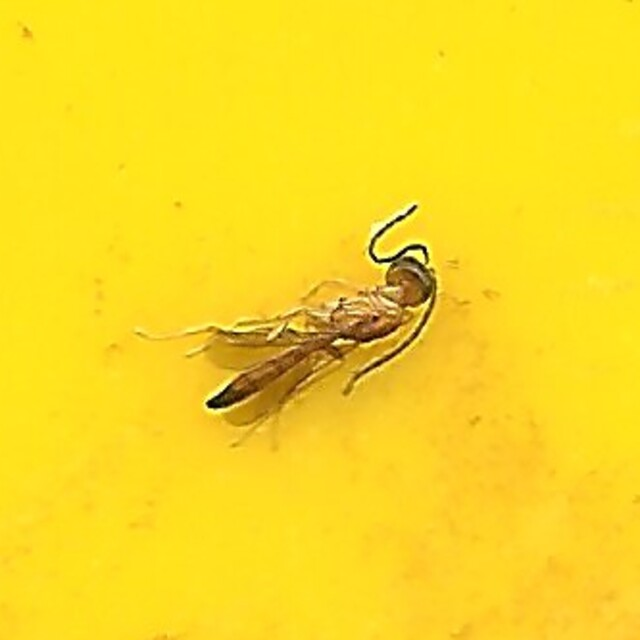Hymenoptera: (192, 205, 448, 435)
